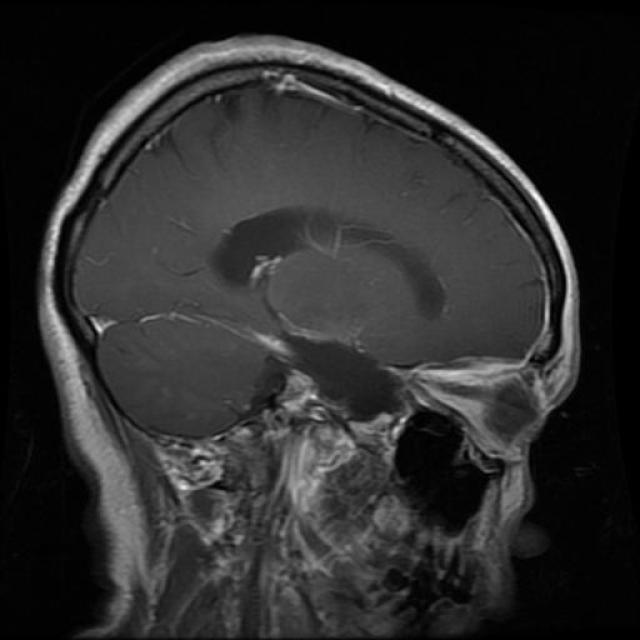glioma: (204, 202, 458, 322)
